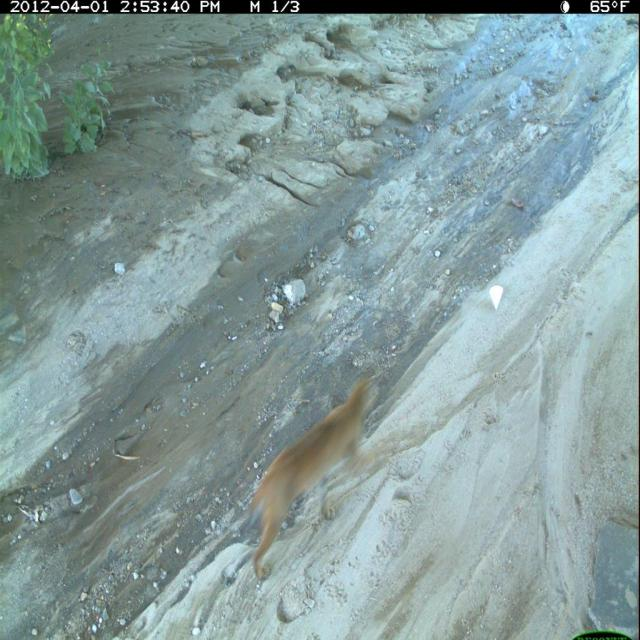bobcat: (243, 377, 383, 585)
